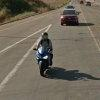Motorcycle: (29, 33, 51, 79)
